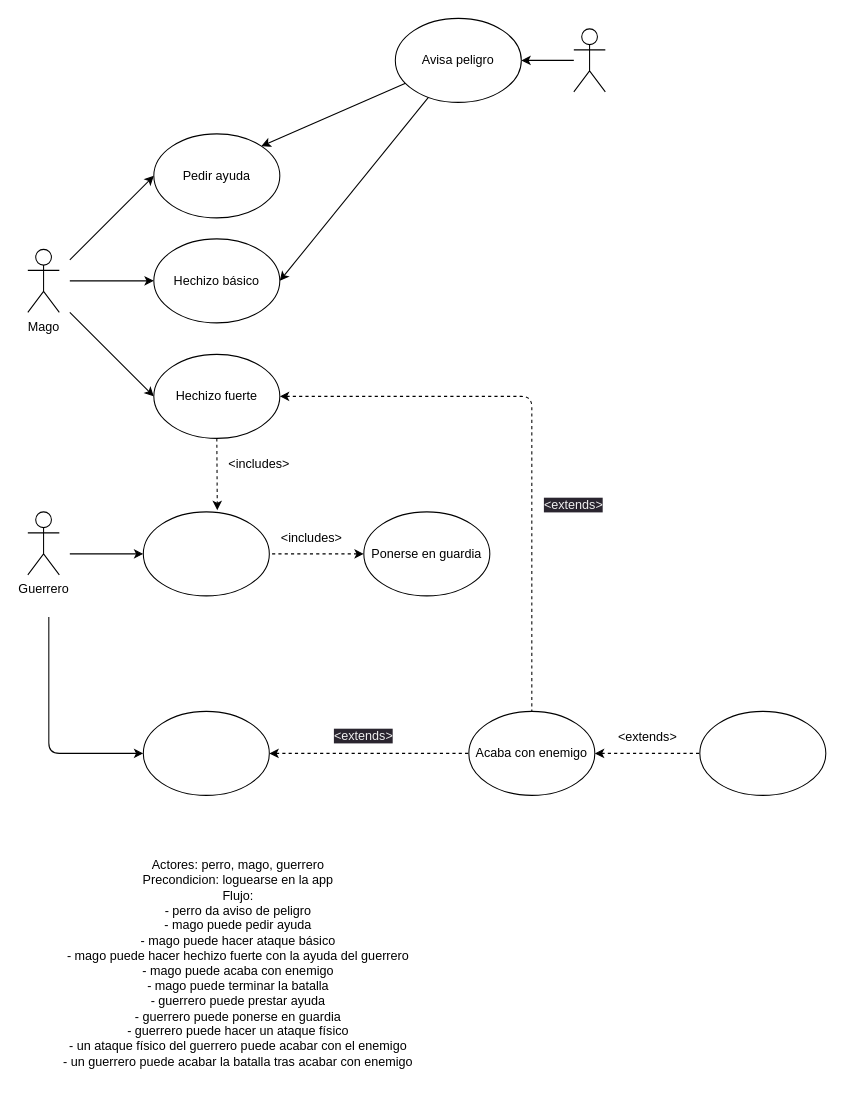
The diagram is 844 pixels wide and 1097 high, and some of its shapes have lost their labels. Each missing label, with the box of its shape:
Ataque físico: (142, 710, 269, 795)
Perro: (573, 28, 605, 92)
Prestar ayuda: (142, 511, 269, 596)
Terminar batalla: (699, 710, 826, 795)
